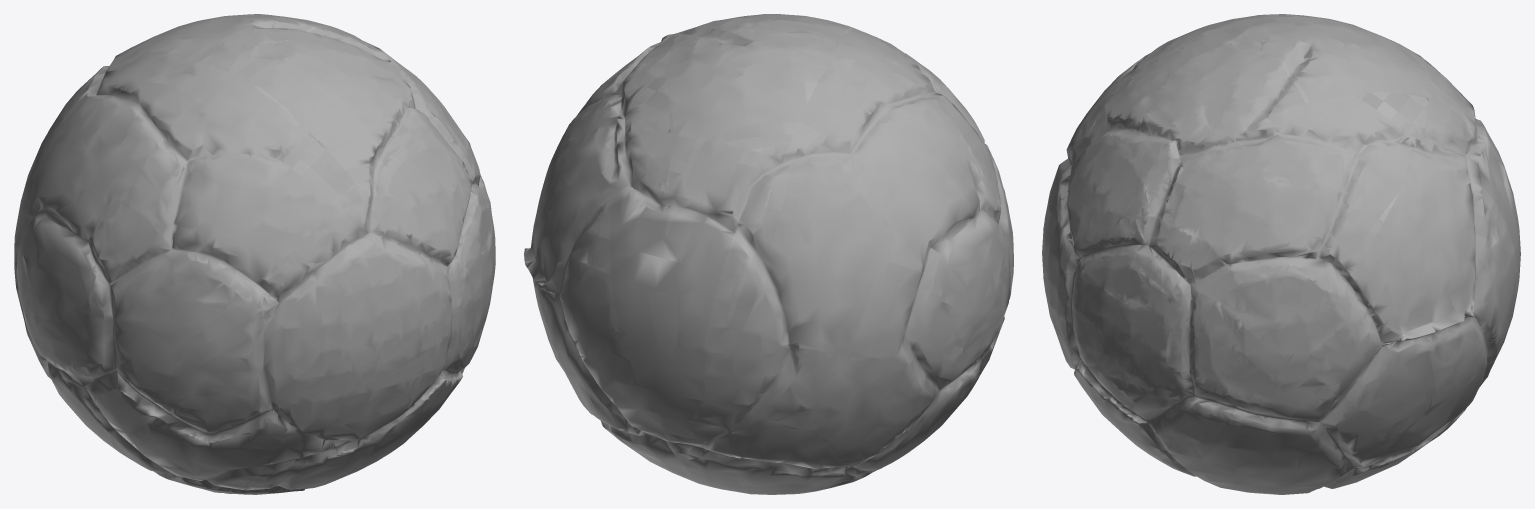
File: l_soccer_ball.glb
The picture shows the model from 3 angles, left to right: view 1: azimuth 30°, elevation 25°; view 2: azimuth 150°, elevation 25°; view 3: azimuth 270°, elevation 25°; orthographic projection.
Parts seen in each view (by area): view 1: tripo_node_b82fcf76-fbbd-48f6-966a-a0349babd14e; view 2: tripo_node_b82fcf76-fbbd-48f6-966a-a0349babd14e; view 3: tripo_node_b82fcf76-fbbd-48f6-966a-a0349babd14e.
Boxes of the visible parts, x1,y1,x2,y2 form: tripo_node_b82fcf76-fbbd-48f6-966a-a0349babd14e: (14, 14, 495, 494); tripo_node_b82fcf76-fbbd-48f6-966a-a0349babd14e: (524, 14, 1013, 494); tripo_node_b82fcf76-fbbd-48f6-966a-a0349babd14e: (1042, 14, 1520, 494).
Size of the model in its own units: 1 by 0.9999 by 0.9998.
1 material, 1 textured.
